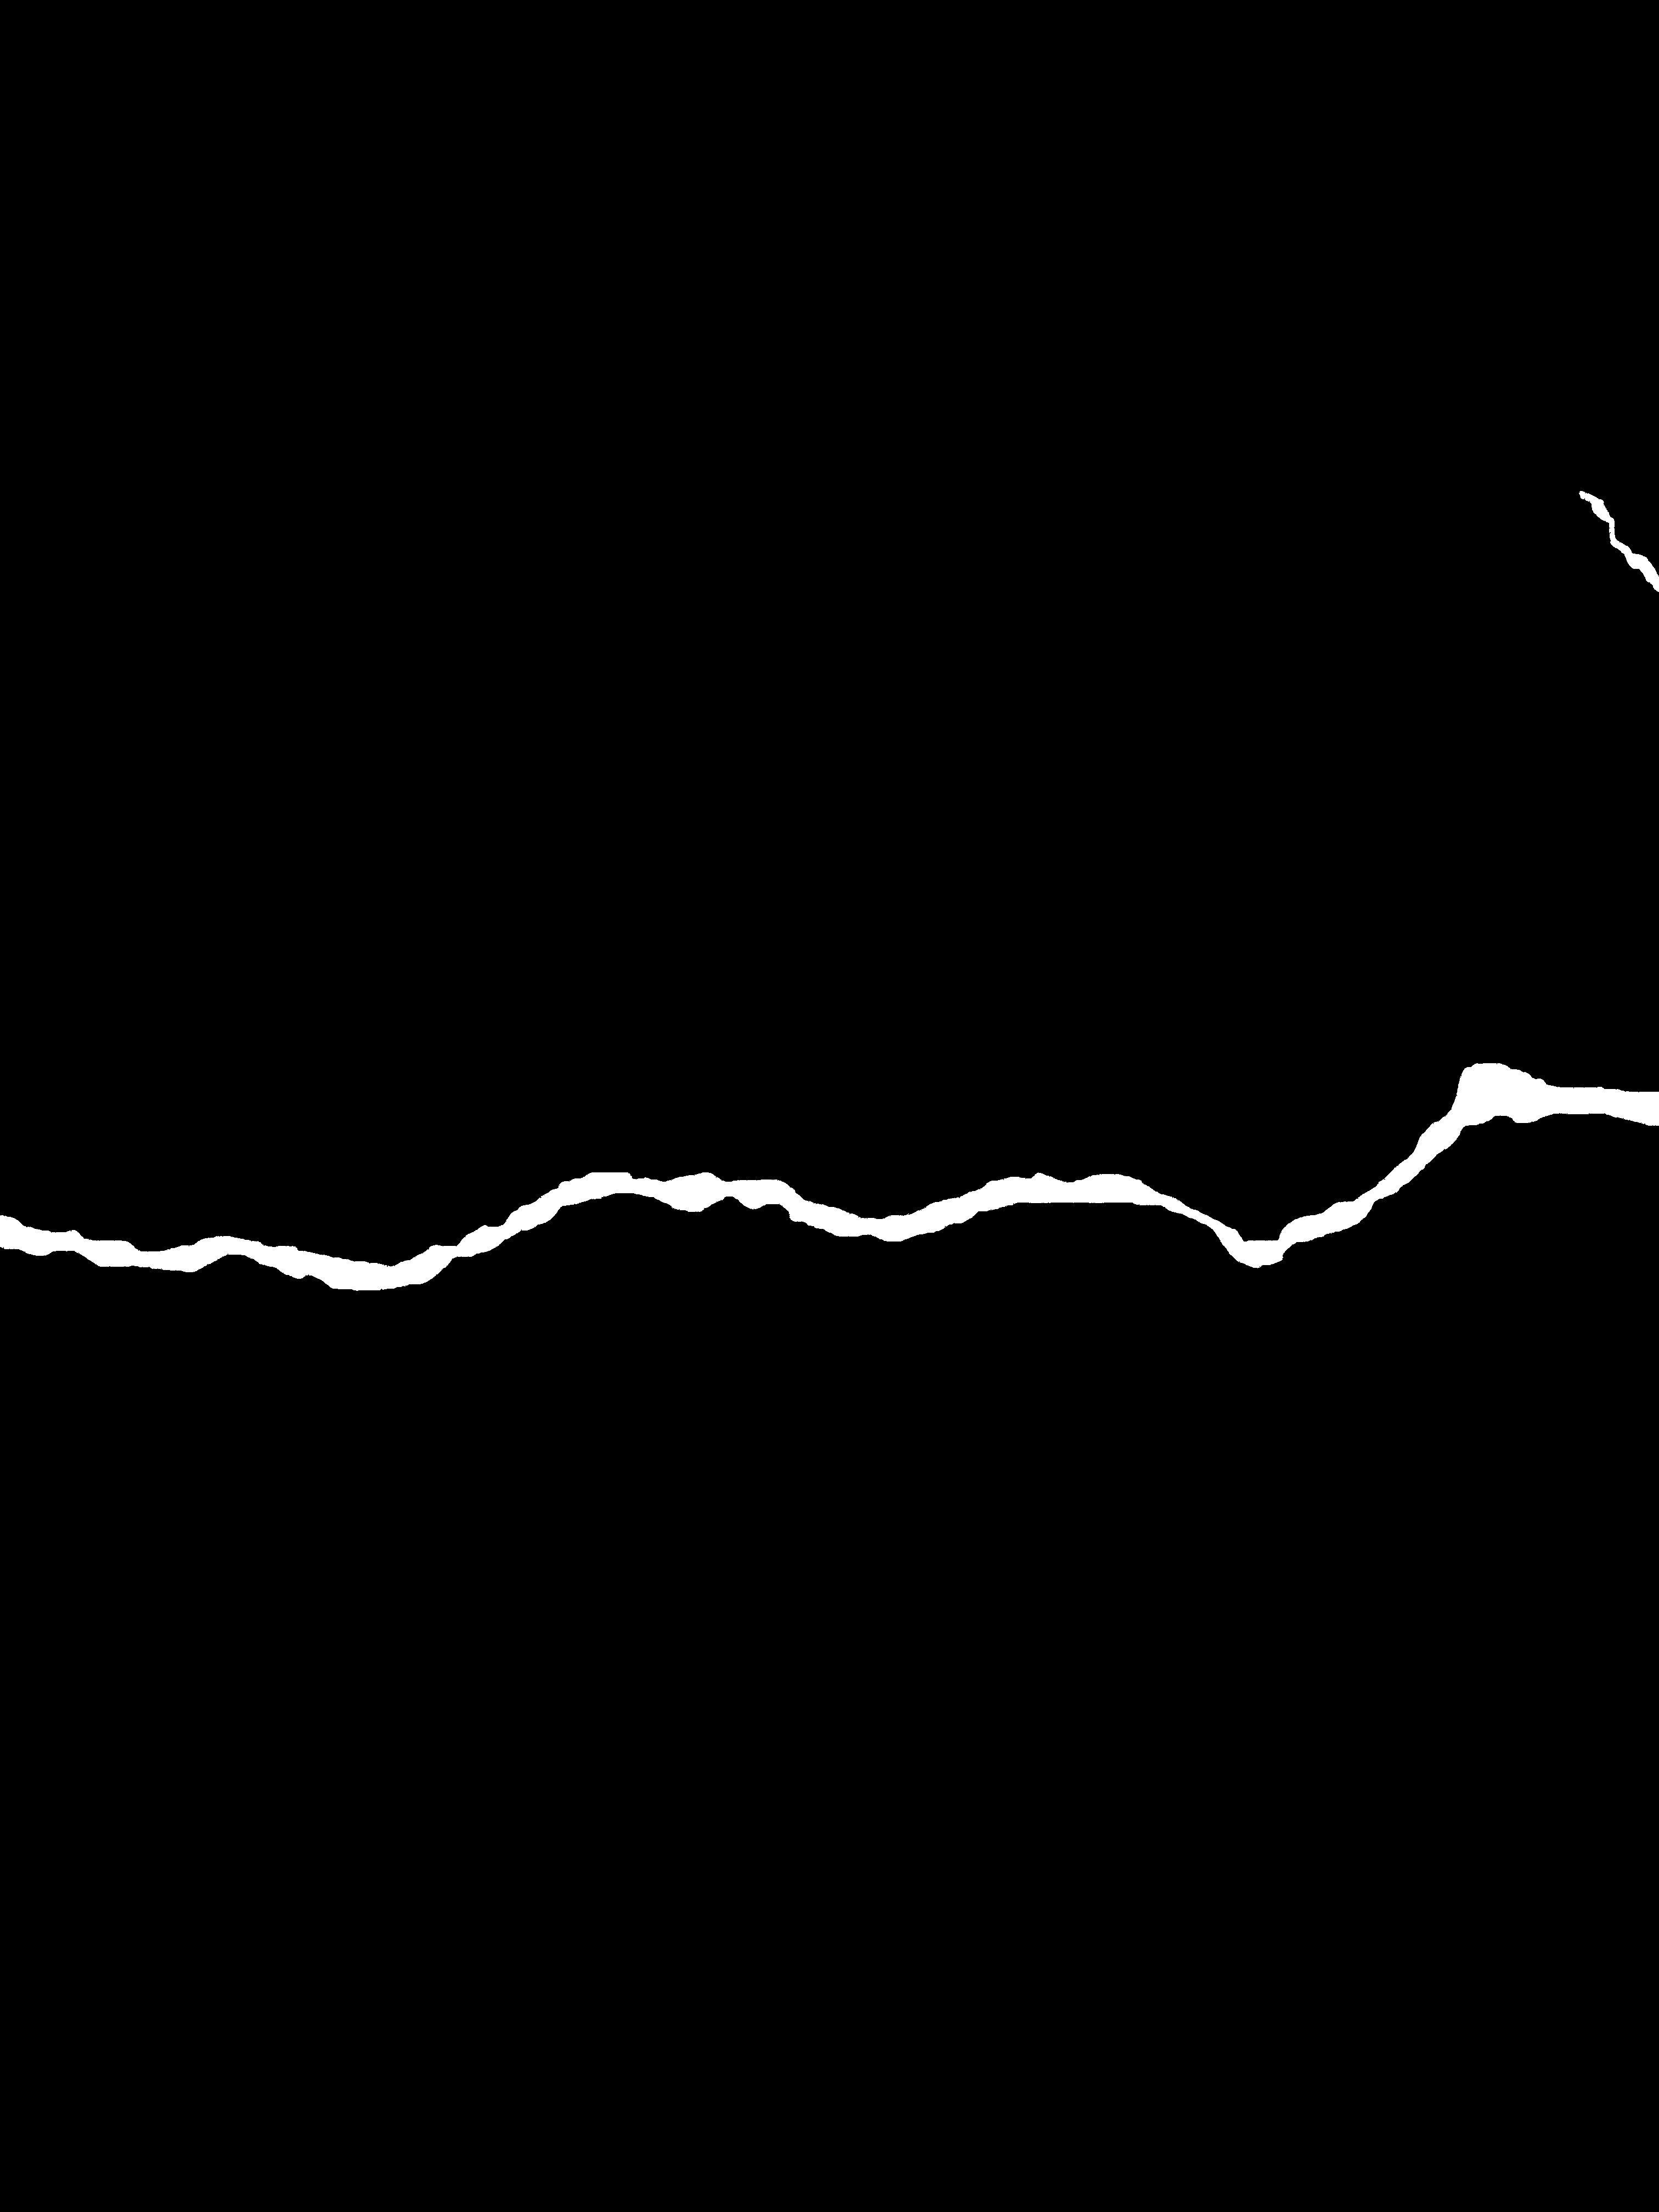Crack: (0, 1038, 1659, 1308)
